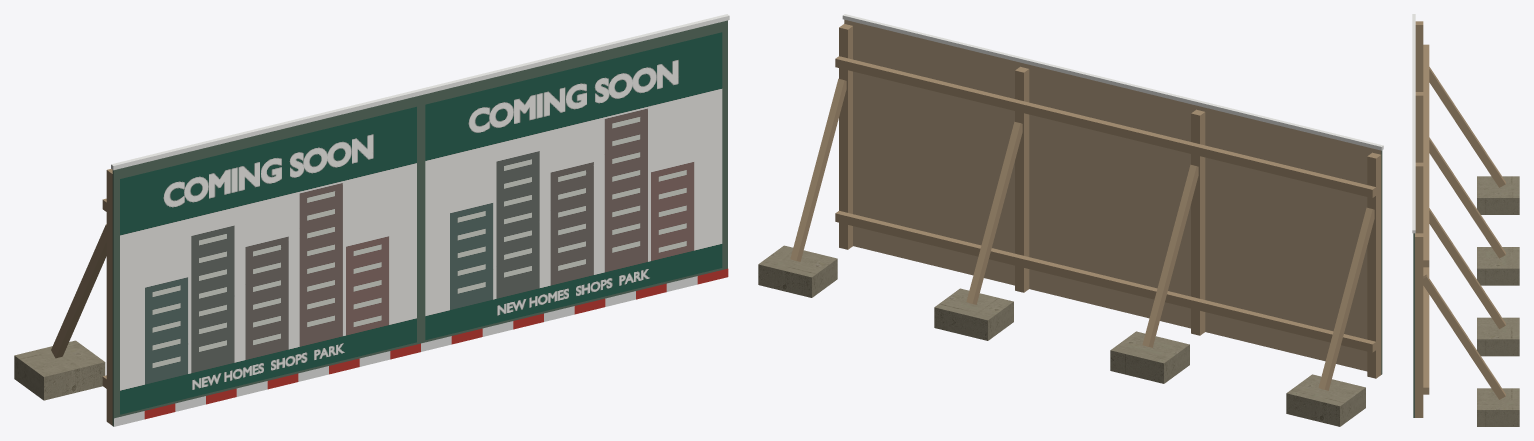
File: hoarding.glb
3 renders of one model, left to right at view 1: azimuth 30°, elevation 25°; view 2: azimuth 150°, elevation 25°; view 3: azimuth 270°, elevation 25°, orthographic. The views are drawn at different scales.
Visible parts, largest first — view 1: Poster_1, Poster_0, hoarding_body; view 2: hoarding_body; view 3: hoarding_body.
Boxes of the visible parts, bbox=[...] form: Poster_1: bbox=[425, 32, 722, 340]; Poster_0: bbox=[120, 106, 416, 414]; hoarding_body: bbox=[14, 14, 729, 426]; hoarding_body: bbox=[758, 14, 1383, 426]; hoarding_body: bbox=[1412, 14, 1519, 426].
Size of the model in its own units: 0.325 by 0.122 by 0.063.
3 materials, 3 textured.
